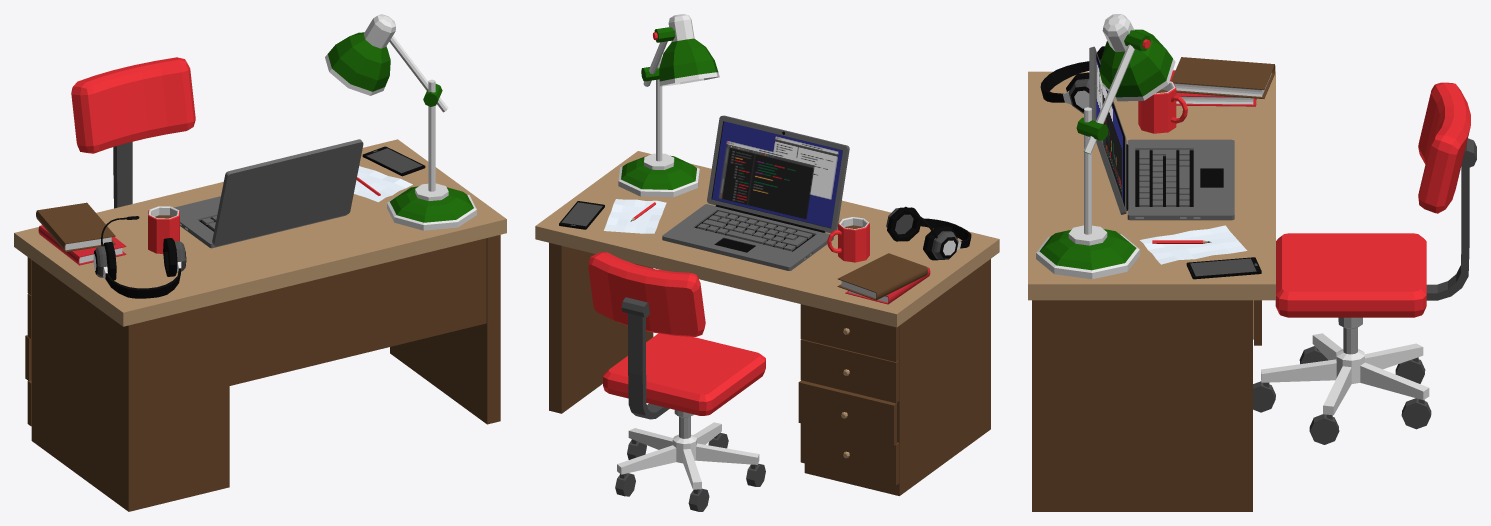
Rendered from hero-desk.glb.
3 views of the same model, side by side, from view 1: azimuth 30°, elevation 25°; view 2: azimuth 150°, elevation 25°; view 3: azimuth 270°, elevation 25° (orthographic). The views are drawn at different scales.
Parts seen in each view (by area): view 1: Object_11, Object_145, Object_16, chair_0, Object_128, Object_10, Object_17, Object_125, Object_122, Object_130, Object_13; view 2: Object_11, chair_0, Object_145, Object_21, Object_16, Object_128, Object_10, Object_17, Object_122, Object_130, Object_125; view 3: Object_11, Object_145, chair_0, Object_16, Object_10, Object_128, Object_17, Object_122, Object_130, Object_21, Object_125.
Part boxes in pixels (x1,y1,x2,y2): Object_11: (25,202,500,511); Object_145: (14,139,506,326); Object_16: (174,139,363,248); chair_0: (71,57,195,208); Object_128: (328,32,473,222); Object_10: (65,14,476,278); Object_17: (94,146,425,298); Object_125: (94,148,422,277); Object_122: (354,166,412,202); Object_130: (148,177,380,253); Object_13: (38,225,126,265); Object_11: (549,225,990,495); chair_0: (588,252,765,511); Object_145: (535,151,999,327); Object_21: (712,121,842,227); Object_16: (662,115,849,270); Object_128: (621,27,718,189); Object_10: (618,14,961,302); Object_17: (559,121,971,260); Object_122: (604,199,666,233); Object_130: (633,32,869,262); Object_125: (561,202,958,259); Object_11: (1032,57,1275,511); Object_145: (1028,71,1275,300); chair_0: (1253,82,1476,444); Object_16: (1089,46,1234,220); Object_10: (1036,14,1271,279); Object_128: (1039,29,1172,270); Object_17: (1040,46,1261,279); Object_122: (1140,225,1247,264); Object_130: (1138,39,1203,243); Object_21: (1096,59,1122,200); Object_125: (1069,58,1257,276).
Bounding box in the file's own units: 8.51 × 8.42 × 7.58.
Materials: 14 (1 with a texture image).
